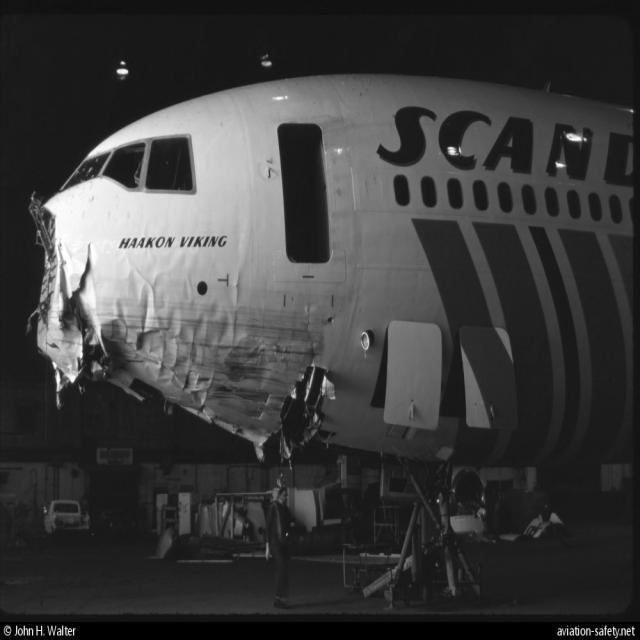crack: (294, 299, 322, 375), (70, 241, 102, 304)
dent: (108, 261, 188, 345)
